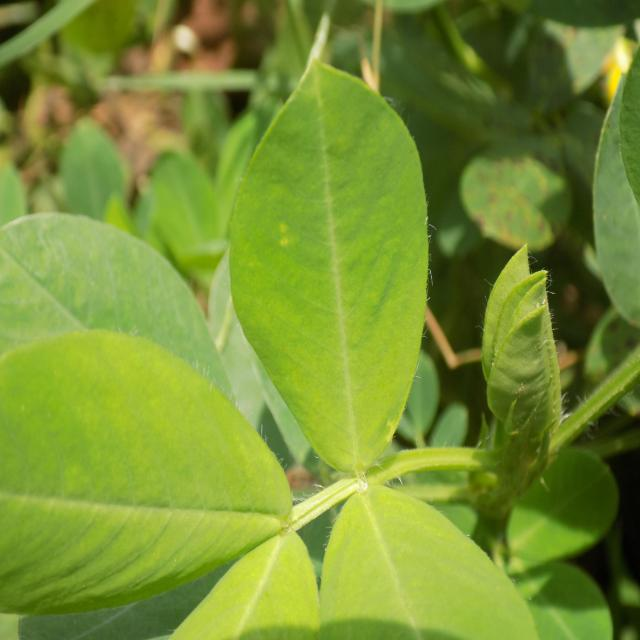Ground nut_healthy: (9, 208, 294, 526), (224, 58, 432, 477)
